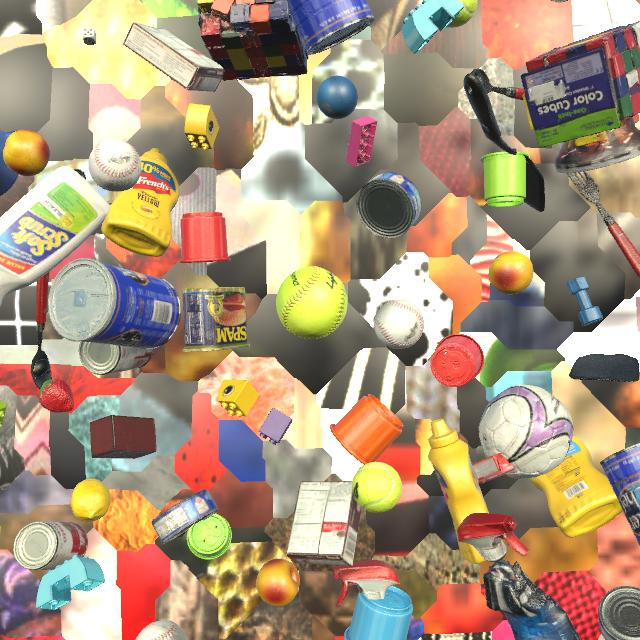ycb_002_master_chef_can: (48, 258, 181, 349), (287, 0, 375, 55), (600, 443, 640, 546)
ycb_005_tomato_soup_can: (13, 521, 88, 570), (79, 342, 154, 375)
ycb_006_mustard_bottle: (529, 436, 622, 537), (428, 419, 489, 564), (101, 148, 179, 257)
ycb_007_tuna_fish_can: (356, 172, 422, 238), (152, 489, 219, 545), (598, 586, 640, 640), (551, 0, 568, 3)
ycb_008_pudding_box: (123, 22, 224, 92), (286, 481, 362, 566)
ycb_009_gelatin_box: (472, 453, 515, 484)
ycb_010_potted_meat_can: (182, 287, 250, 352)
ycb_012_strawberry: (39, 379, 74, 413), (505, 614, 510, 624)
ycb_014_lemon: (71, 478, 110, 522)
ycb_015_peach: (3, 129, 50, 176), (256, 559, 300, 606), (488, 251, 533, 294)
